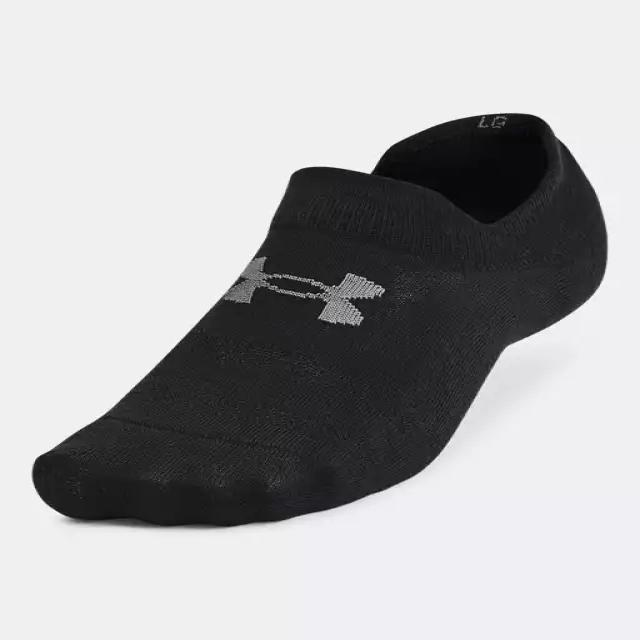sock: (30, 111, 608, 527)
